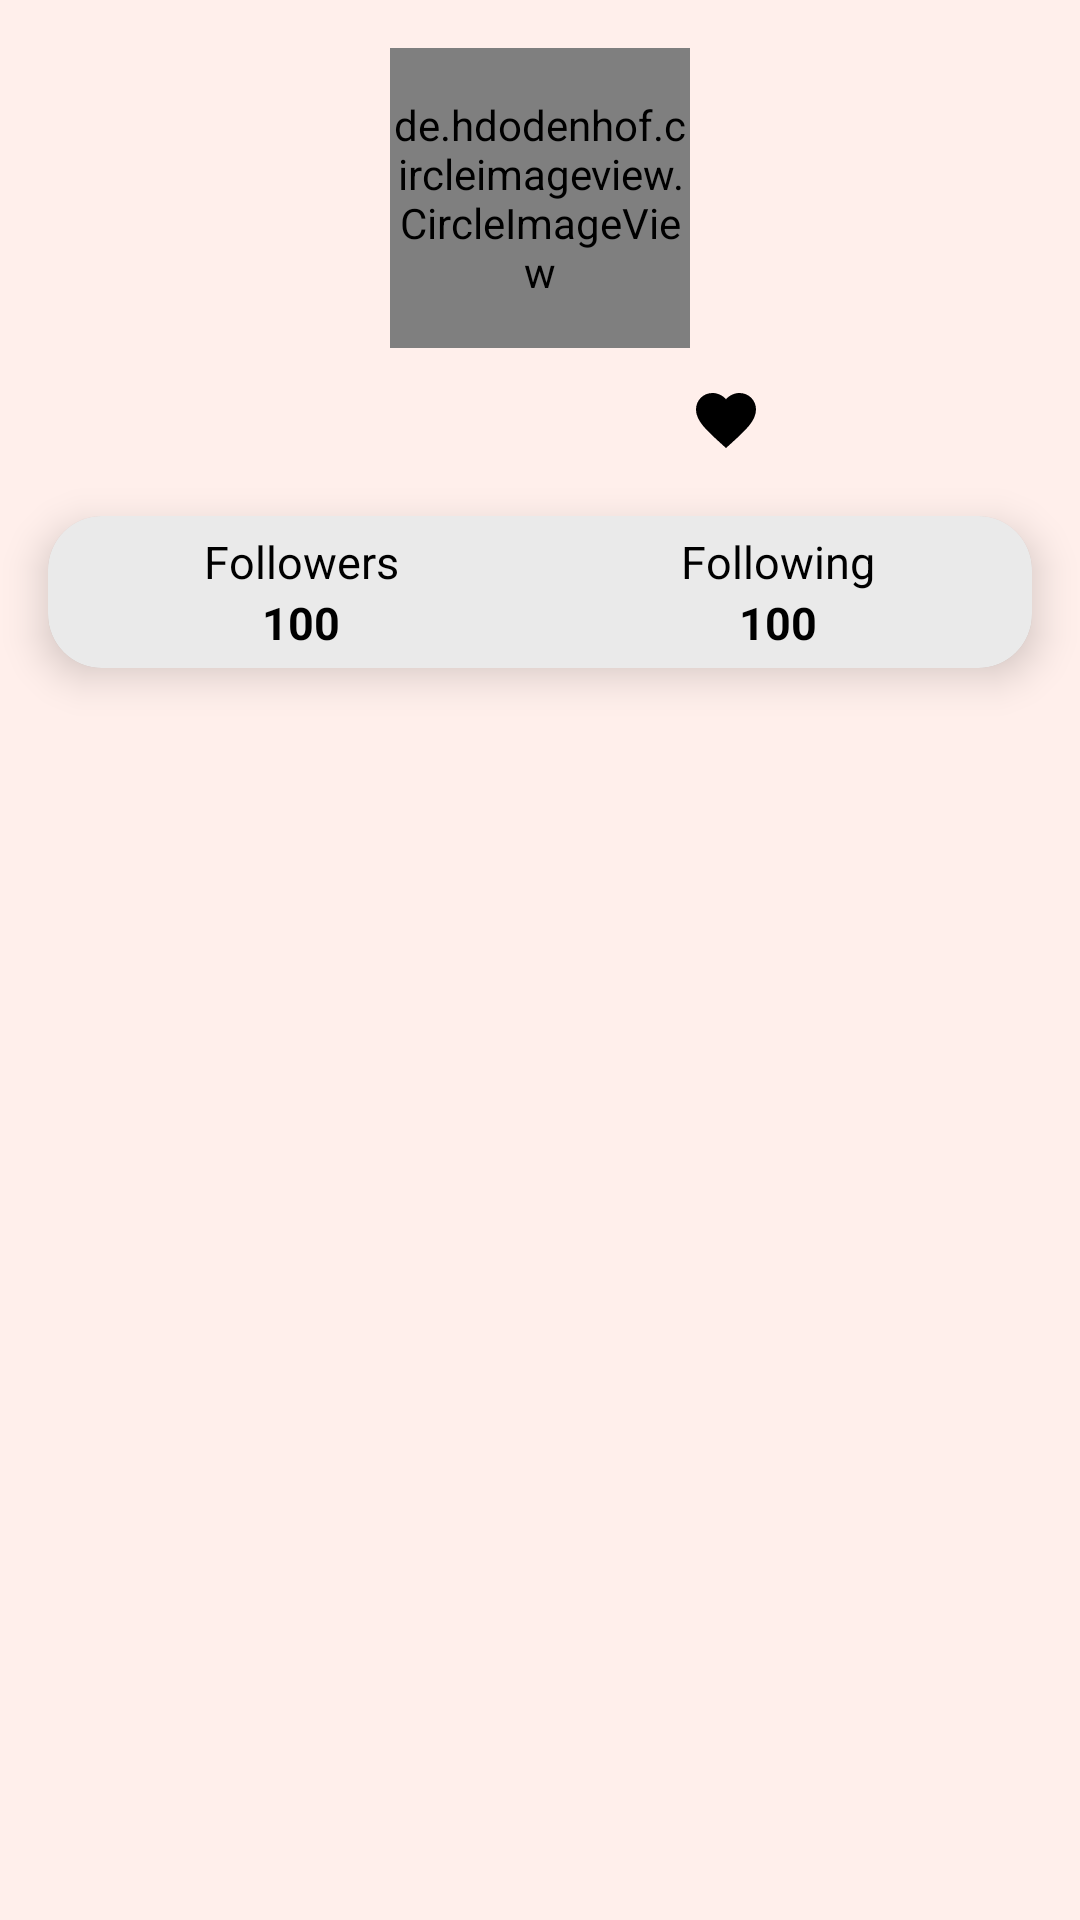

Icons on this 1080x1920 Android screen, each with the point to tap as point (x, y):
favorite: point (726, 420)
